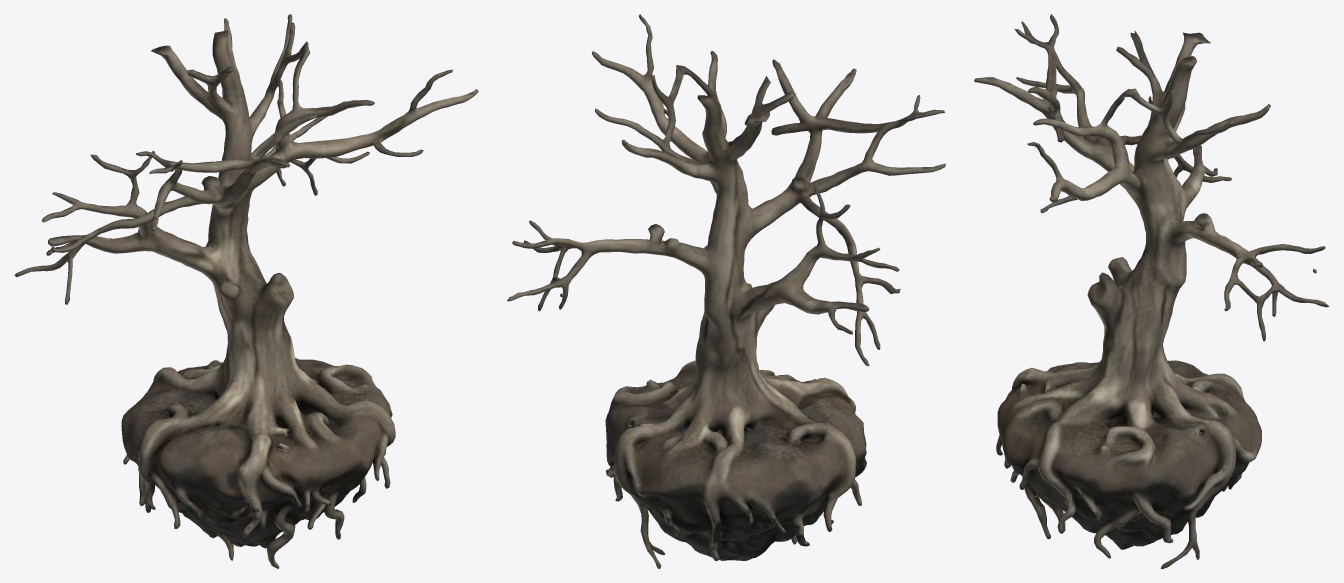
File: Uprooted_Tree.glb
3 views of the same model, side by side, from view 1: azimuth 30°, elevation 25°; view 2: azimuth 150°, elevation 25°; view 3: azimuth 270°, elevation 25° (orthographic).
Visible parts, largest first — view 1: Mesh_0; view 2: Mesh_0; view 3: Mesh_0.
Boxes of the visible parts, x1,y1,x2,y2 form: Mesh_0: [14, 14, 478, 568]; Mesh_0: [507, 14, 945, 568]; Mesh_0: [974, 14, 1329, 568].
Bounding box in the file's own units: 3.97 × 5 × 3.31.
1 material, 1 textured.
